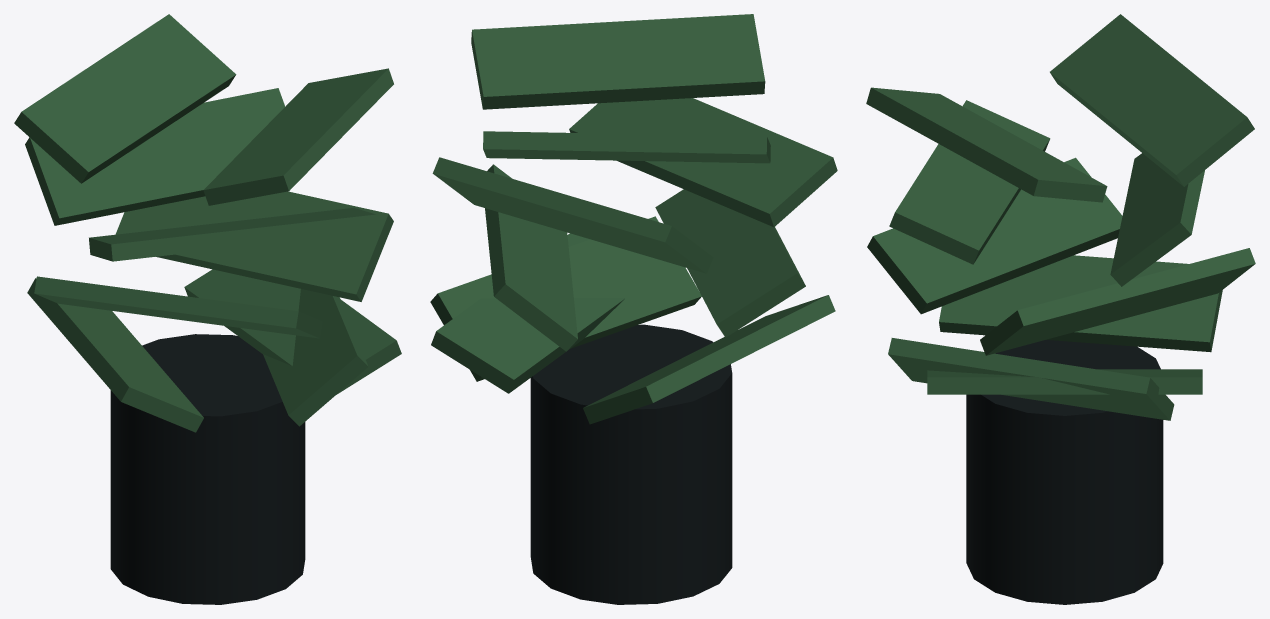
Rendered from potted-plant.glb.
The picture shows the model from 3 angles, left to right: view 1: azimuth 30°, elevation 25°; view 2: azimuth 150°, elevation 25°; view 3: azimuth 270°, elevation 25°; orthographic projection. The views are drawn at different scales.
Parts seen in each view (by area): view 1: broad houseplant leaf (×9), tall black houseplant pot; view 2: broad houseplant leaf (×9), tall black houseplant pot; view 3: broad houseplant leaf (×9), tall black houseplant pot.
Part boxes in pixels (x1,y1,x2,y2): broad houseplant leaf (×9): [14, 14, 401, 432]; tall black houseplant pot: [110, 334, 305, 604]; broad houseplant leaf (×9): [430, 14, 837, 424]; tall black houseplant pot: [530, 324, 732, 604]; broad houseplant leaf (×9): [866, 14, 1255, 420]; tall black houseplant pot: [966, 340, 1163, 604].
Bounding box in the file's own units: 1.37 × 1.8 × 1.35.
